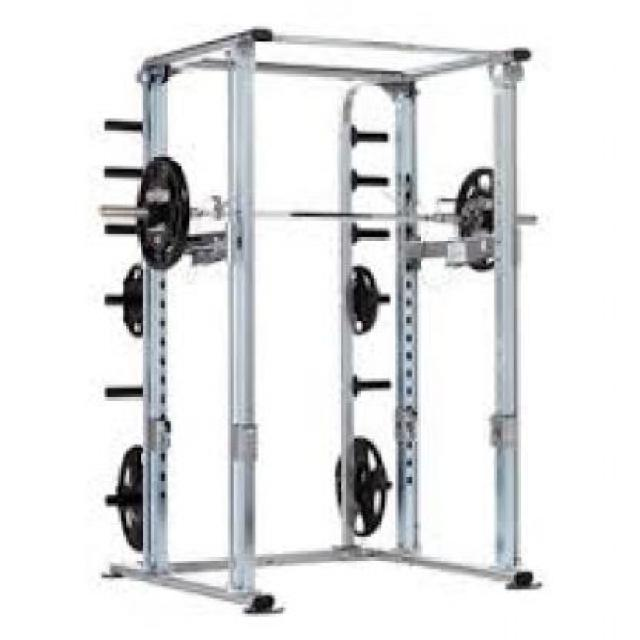smith machine: (94, 26, 543, 614)
